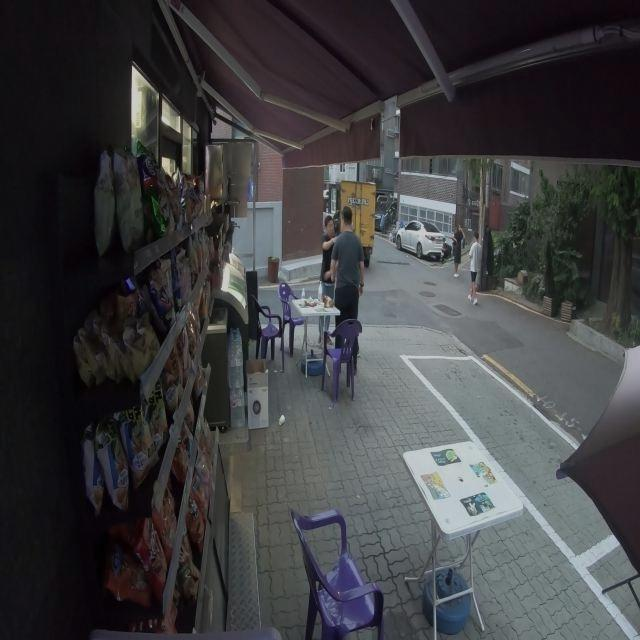fight: (320, 206, 365, 400)
non-fight: (463, 231, 482, 306)
